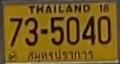0: (98, 16, 111, 45), (66, 17, 79, 45)
3: (25, 18, 38, 46)
4: (82, 16, 95, 45)
5: (51, 16, 64, 45)
7: (9, 17, 22, 46)
SPK: (25, 49, 95, 63)
